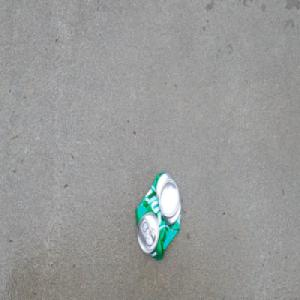SodaCan: (133, 167, 183, 263)
